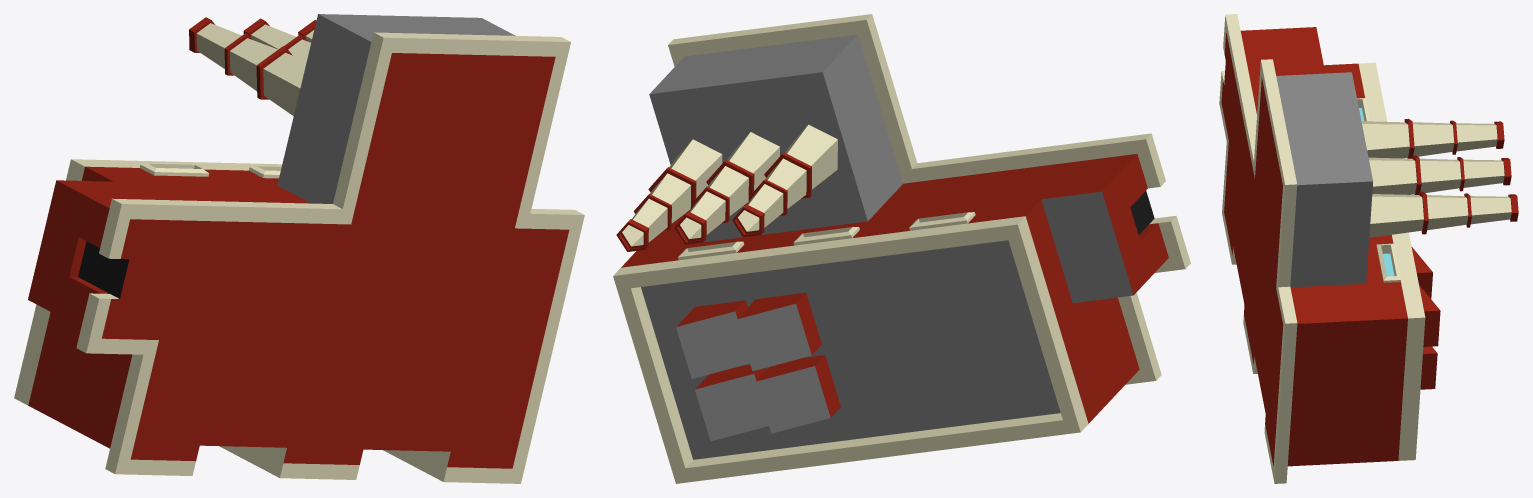
Rendered from planet_factory.glb.
3 views of the same model, side by side, from view 1: azimuth 30°, elevation 25°; view 2: azimuth 150°, elevation 25°; view 3: azimuth 270°, elevation 25° (orthographic). The views are drawn at different scales.
Parts seen in each view (by area): view 1: factory; view 2: factory; view 3: factory.
Part boxes in pixels (left/top/right/bottom): factory: left=14, top=14, right=584, bottom=483; factory: left=613, top=14, right=1190, bottom=483; factory: left=1219, top=14, right=1518, bottom=483.
Bounding box in the file's own units: 9.95 × 8.54 × 6.26.
